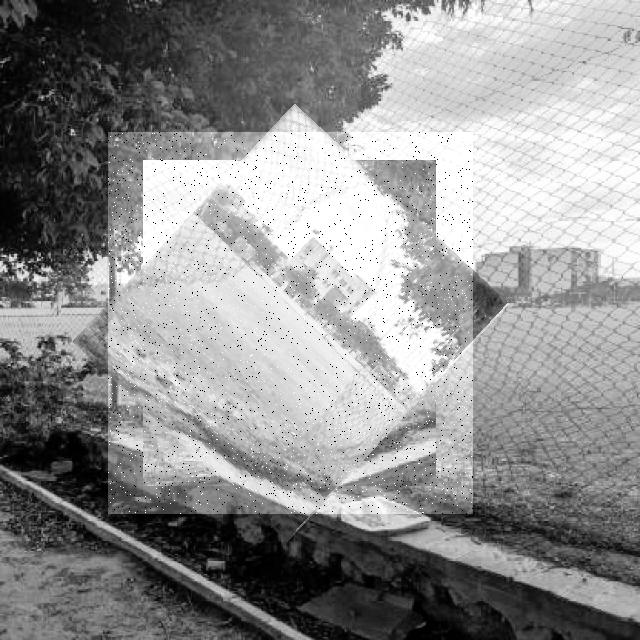anomaly-fence: (108, 132, 473, 514)
